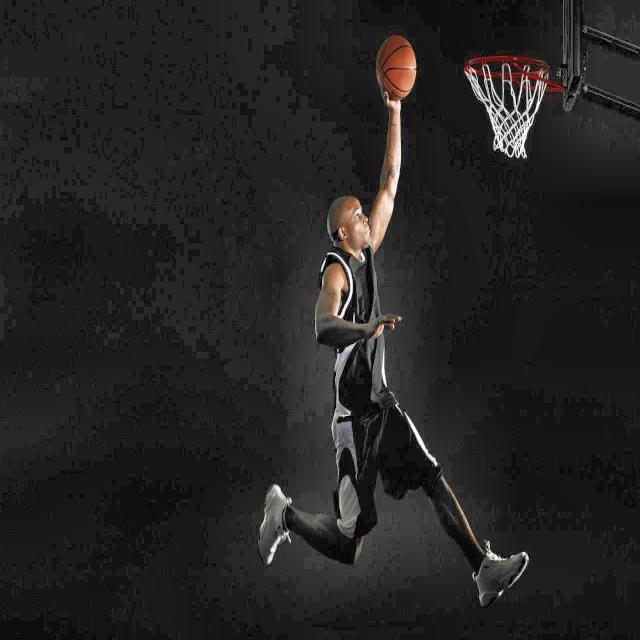board: (376, 34, 416, 98)
rim: (463, 54, 551, 159)
